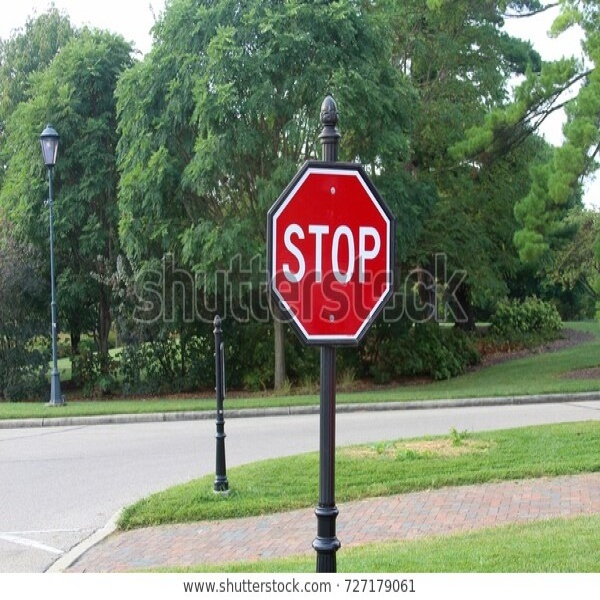stop: (271, 163, 387, 341)
